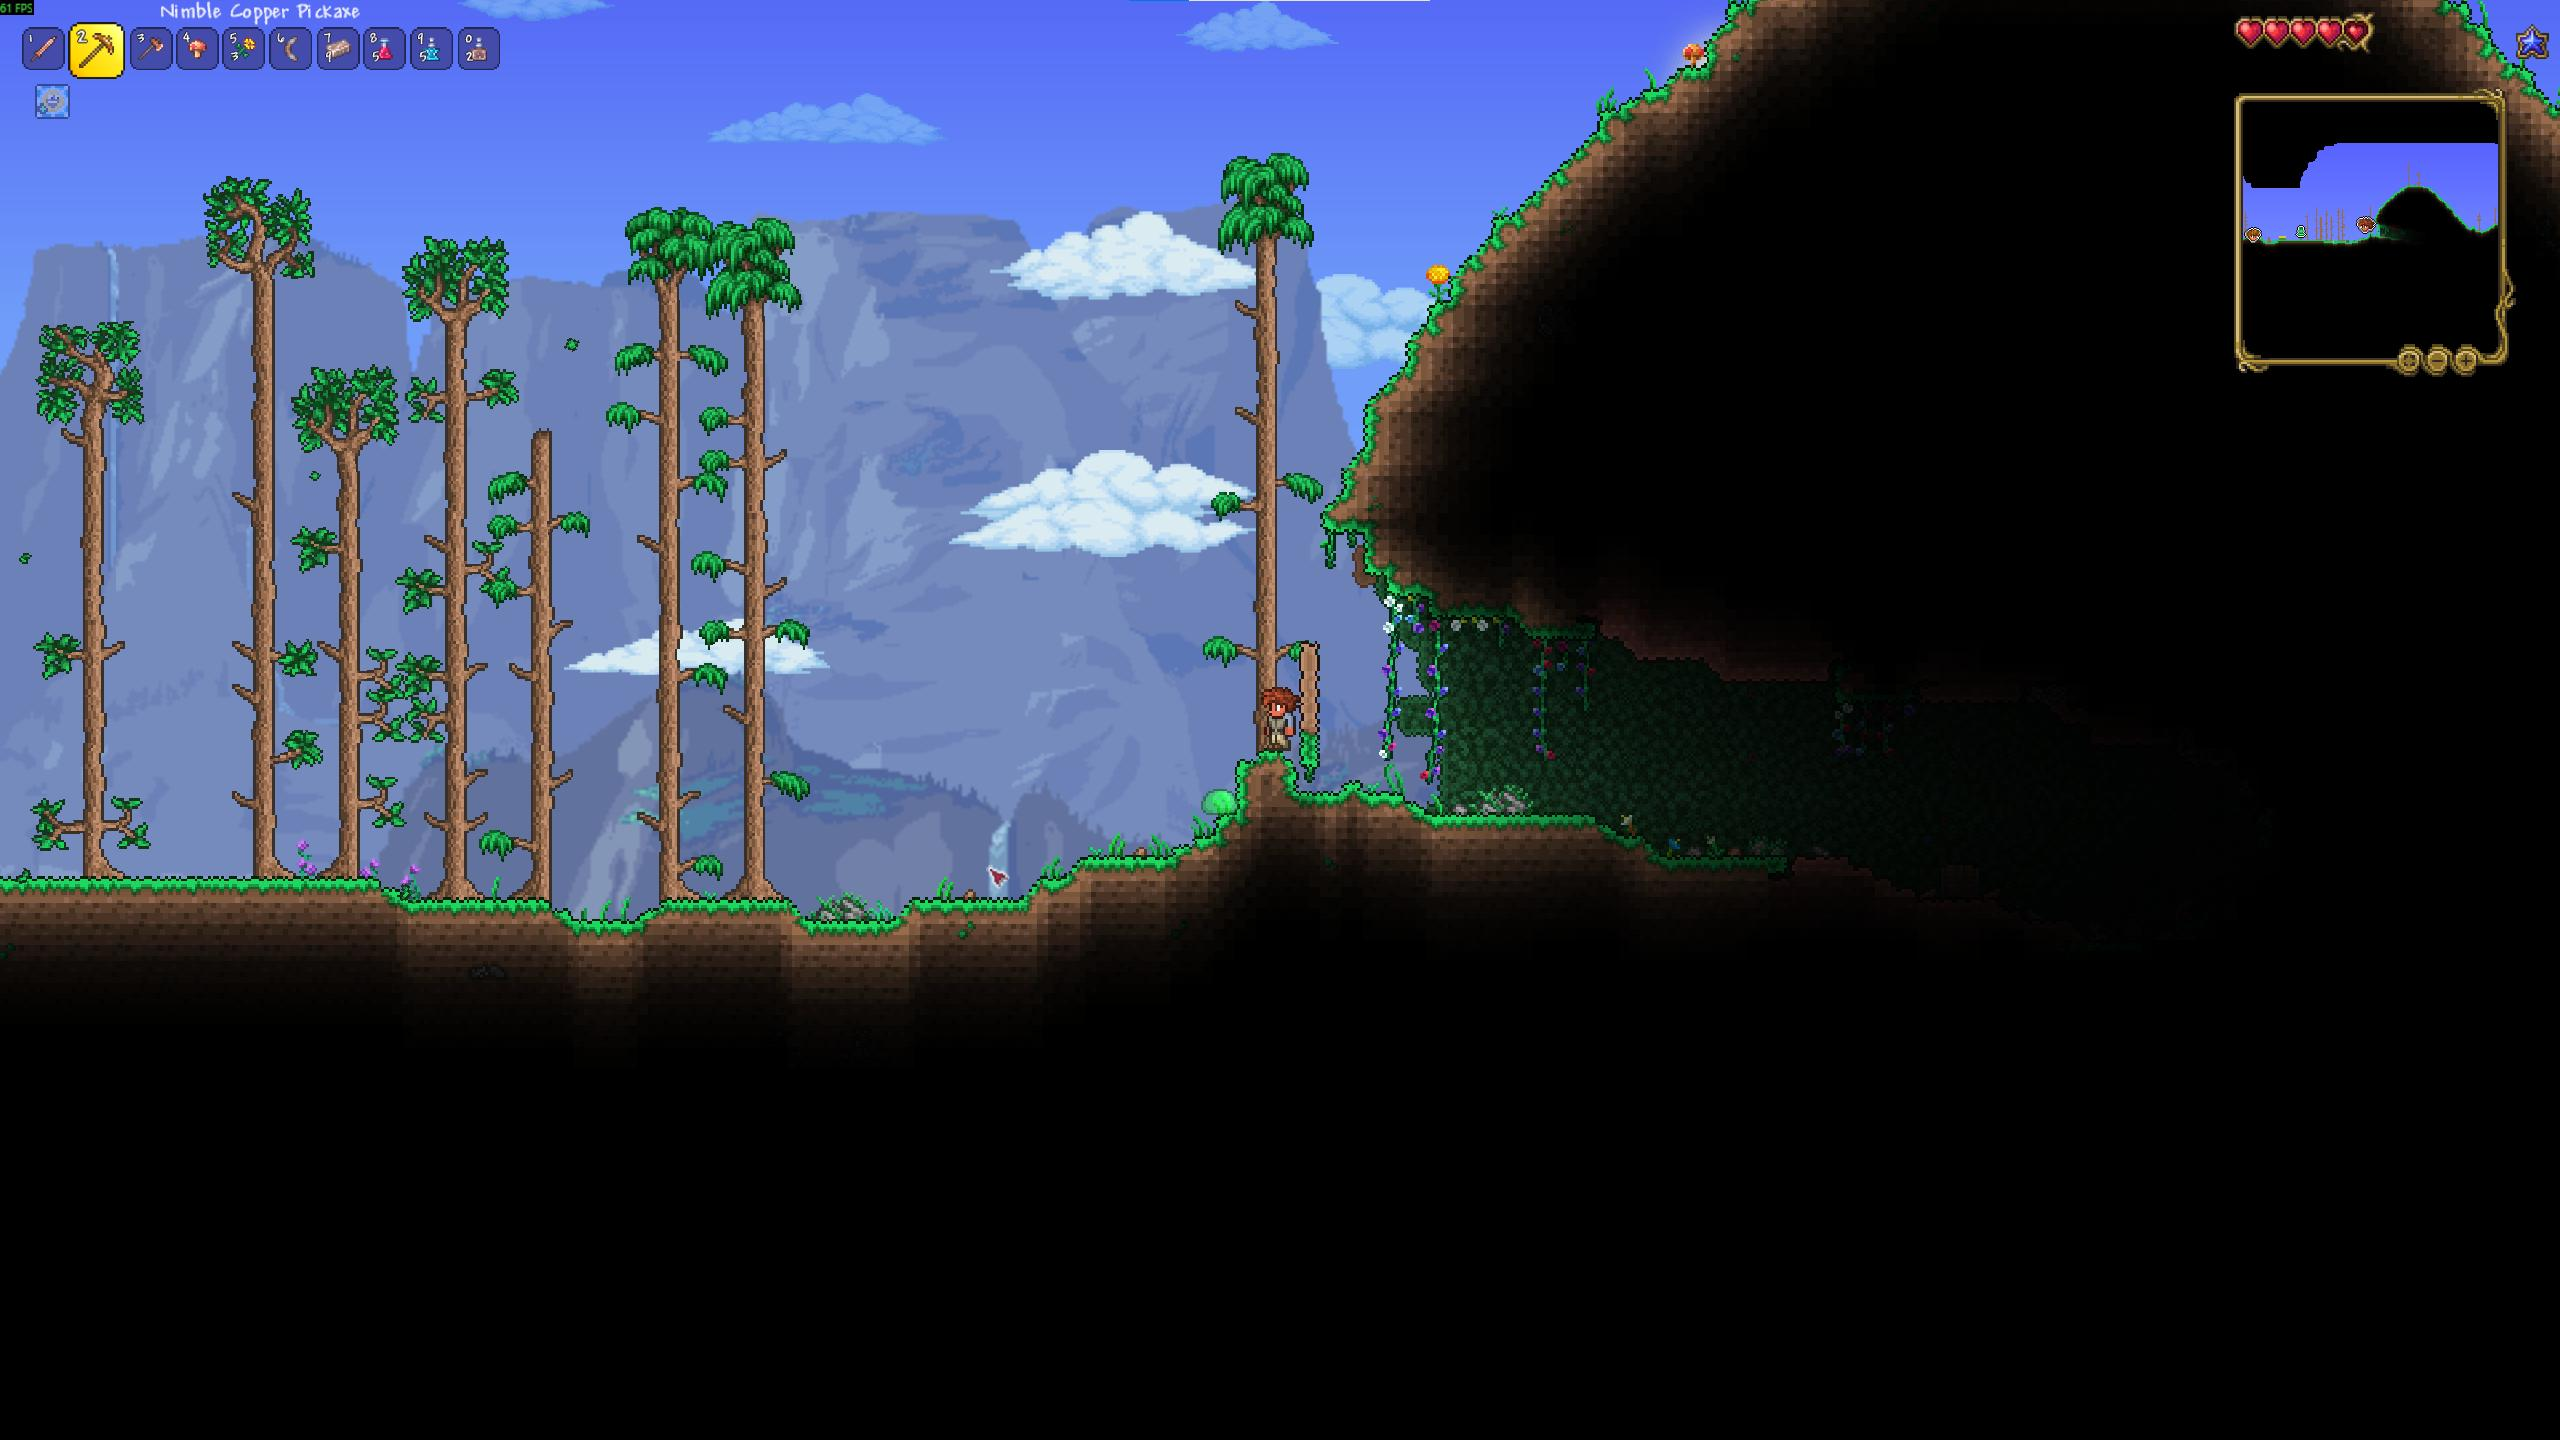Green Slime: (1199, 784, 1241, 819)
